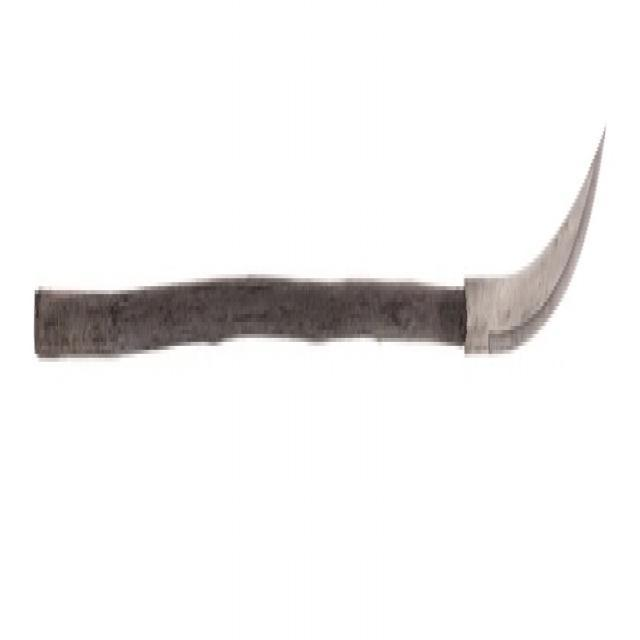spear: (24, 92, 624, 402)
